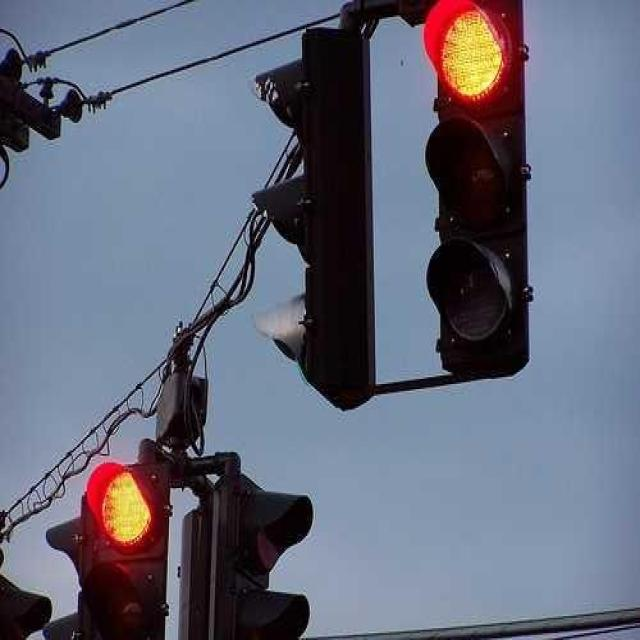Traffic Light -Off-: (79, 452, 175, 640)
Traffic Light -Red-: (422, 0, 536, 387)
